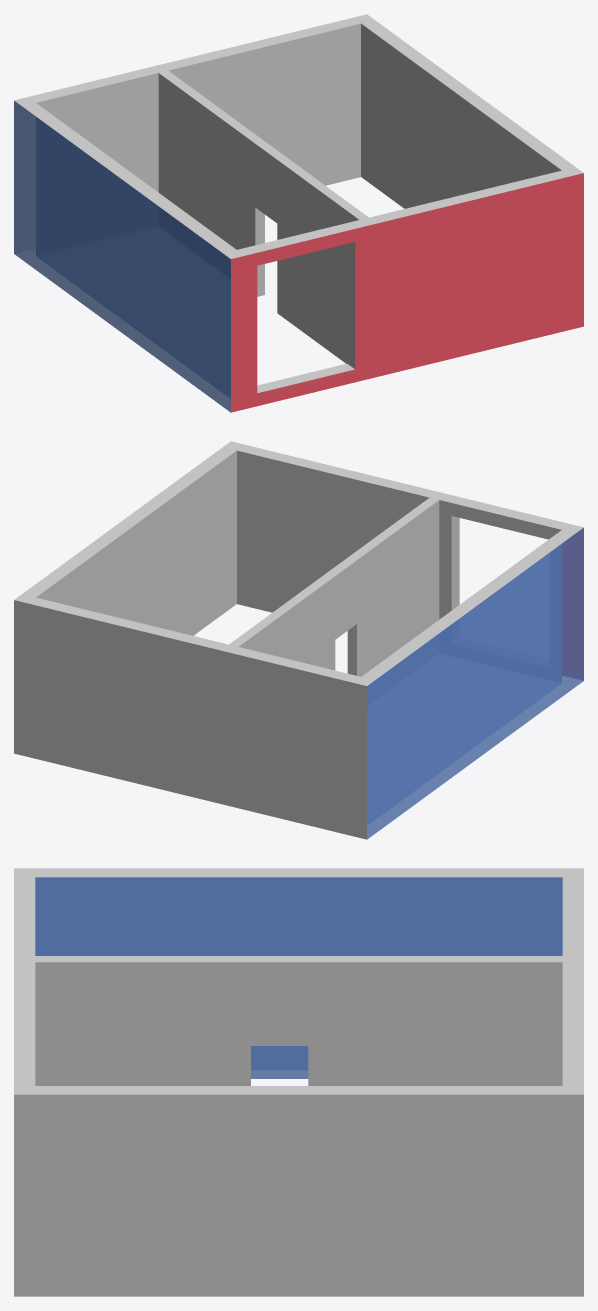
3 renders of one model, top to bottom at view 1: azimuth 30°, elevation 25°; view 2: azimuth 150°, elevation 25°; view 3: azimuth 270°, elevation 25°, orthographic. The views are drawn at different scales.
Parts seen in each view (by area): view 1: SketchUp (×6); view 2: SketchUp (×6); view 3: SketchUp (×4).
Part boxes in pixels (x1,y1,x2,y2): SketchUp (×6): [14, 14, 583, 412]; SketchUp (×6): [14, 441, 583, 839]; SketchUp (×4): [14, 868, 583, 1296].
Size of the model in its own units: 349 by 372 by 145.
